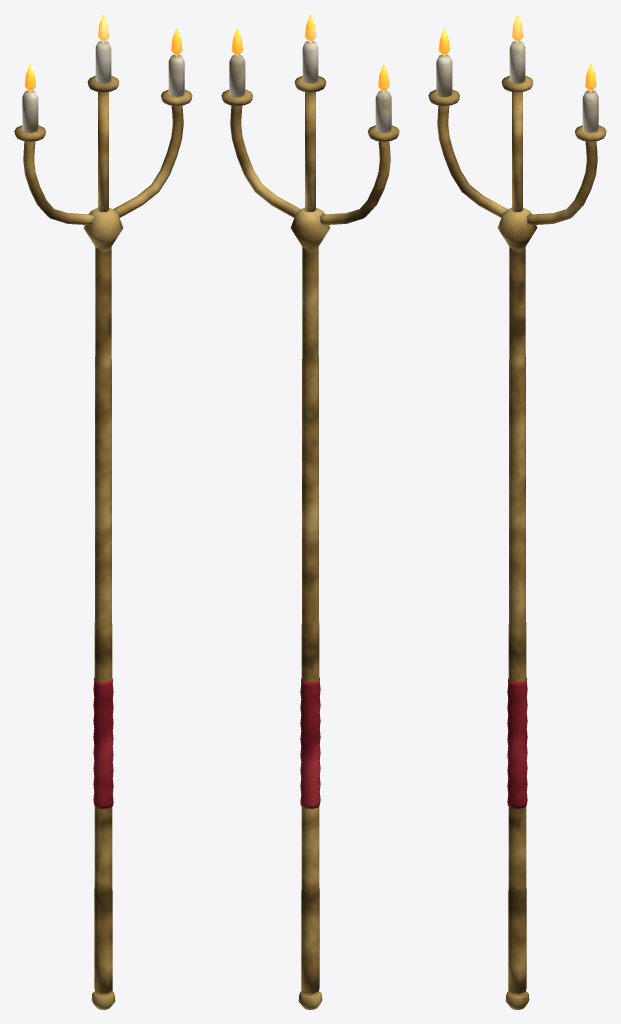
The model's file is CandelabraTrident.fbx.
The picture shows the model from 3 angles, left to right: view 1: azimuth 30°, elevation 25°; view 2: azimuth 150°, elevation 25°; view 3: azimuth 330°, elevation 25°; orthographic projection.
Visible parts, largest first — view 1: CandelabraTrident; view 2: CandelabraTrident; view 3: CandelabraTrident.
Boxes of the visible parts, x1,y1,x2,y2 form: CandelabraTrident: (14,14,192,1009); CandelabraTrident: (221,14,399,1009); CandelabraTrident: (428,14,606,1009).
Bounding box in the file's own units: 0.404 × 2.2 × 0.08.
